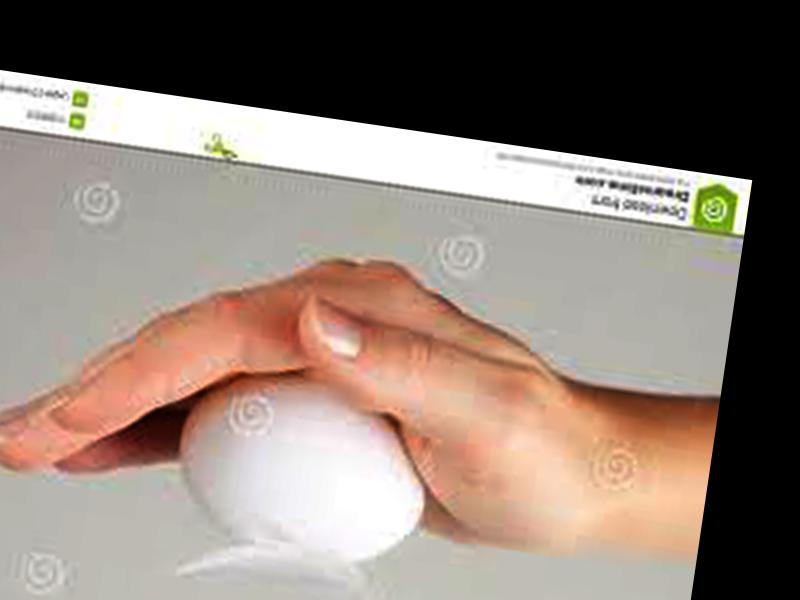Eggs: (163, 360, 442, 570)
